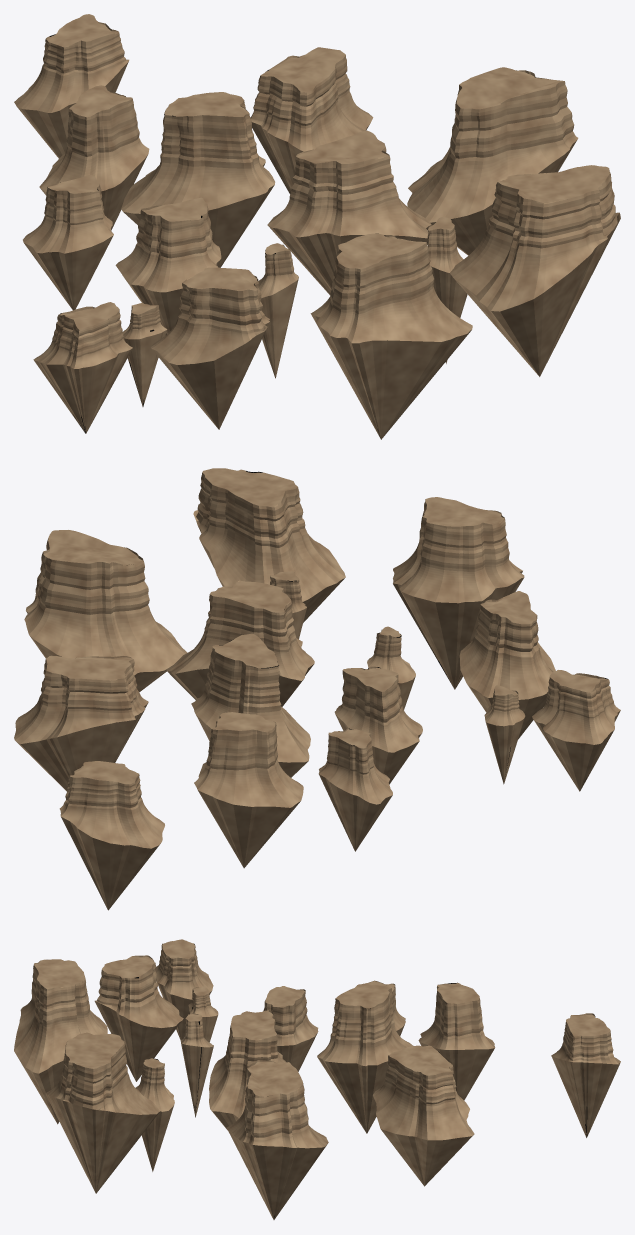
File: rocks.glb
3 renders of one model, top to bottom at view 1: azimuth 30°, elevation 25°; view 2: azimuth 150°, elevation 25°; view 3: azimuth 270°, elevation 25°, orthographic. The views are drawn at different scales.
Parts seen in each view (by area): view 1: environment-yardang-clusters-v001; view 2: environment-yardang-clusters-v001; view 3: environment-yardang-clusters-v001.
Part boxes in pixels (x1,y1,x2,y2): environment-yardang-clusters-v001: [14, 14, 620, 439]; environment-yardang-clusters-v001: [14, 468, 620, 910]; environment-yardang-clusters-v001: [14, 939, 620, 1219].
Bounding box in the file's own units: 409 × 132 × 479.
Materials: 1 (1 with a texture image).
